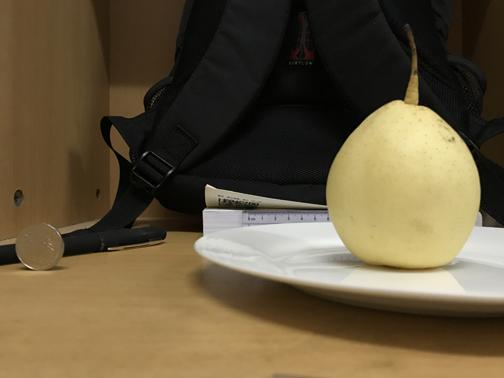coin: (15, 222, 65, 269)
pear: (320, 97, 482, 269)
